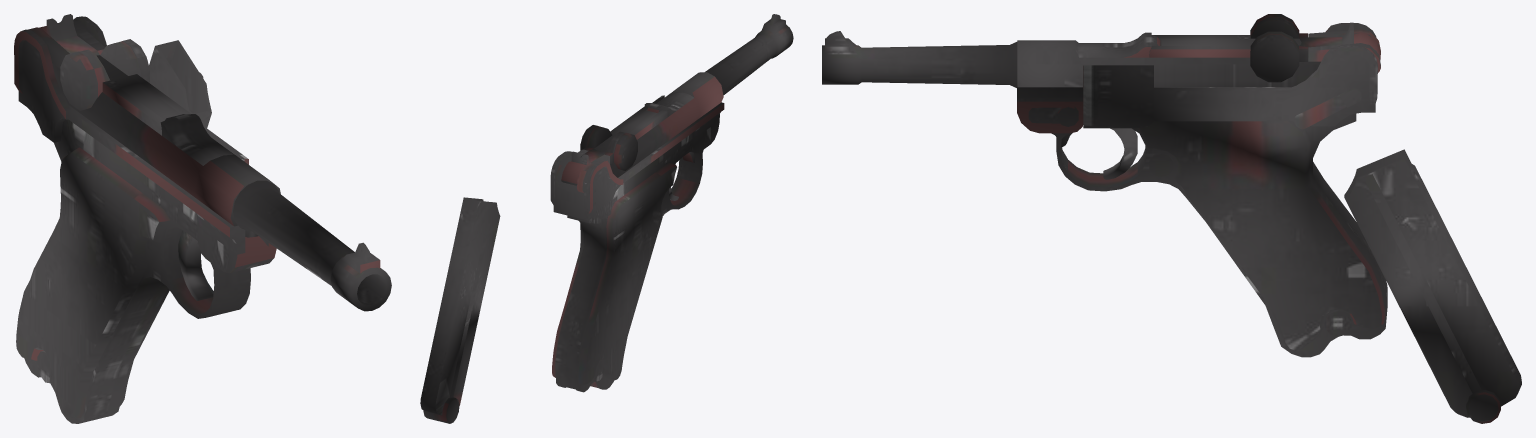
Rendered from luger.glb.
The picture shows the model from 3 angles, left to right: view 1: azimuth 30°, elevation 25°; view 2: azimuth 150°, elevation 25°; view 3: azimuth 270°, elevation 25°; orthographic projection. The views are drawn at different scales.
Parts seen in each view (by area): view 1: Body, Barrel, Slide, Part3, Clip, Part2, Part1, Trigger; view 2: Body, Clip, Slide, Barrel, Part3, Part2, Part1; view 3: Body, Clip, Barrel, Slide, Part3, Part2, Part1, Trigger.
Boxes of the visible parts, left/top/right/bottom form: Body: left=14, top=16, right=276, bottom=423; Barrel: left=233, top=180, right=391, bottom=311; Slide: left=52, top=63, right=280, bottom=237; Part3: left=39, top=14, right=149, bottom=110; Clip: left=149, top=40, right=211, bottom=128; Part2: left=96, top=55, right=190, bottom=135; Part1: left=160, top=114, right=233, bottom=165; Trigger: left=178, top=230, right=213, bottom=300; Body: left=550, top=95, right=724, bottom=392; Clip: left=420, top=197, right=500, bottom=423; Slide: left=610, top=72, right=723, bottom=177; Barrel: left=705, top=14, right=793, bottom=95; Part3: left=561, top=125, right=637, bottom=185; Part2: left=594, top=106, right=667, bottom=151; Part1: left=644, top=92, right=693, bottom=116; Body: left=1017, top=23, right=1387, bottom=357; Clip: left=1344, top=149, right=1521, bottom=423; Barrel: left=822, top=31, right=1017, bottom=87; Slide: left=1017, top=40, right=1320, bottom=87; Part3: left=1250, top=14, right=1380, bottom=82; Part2: left=1149, top=35, right=1301, bottom=57; Part1: left=1077, top=32, right=1160, bottom=57; Trigger: left=1061, top=128, right=1137, bottom=179.
Bounding box in the file's own units: 0.0772 × 0.1546 × 0.2938.
Materials: 1 (1 with a texture image).
